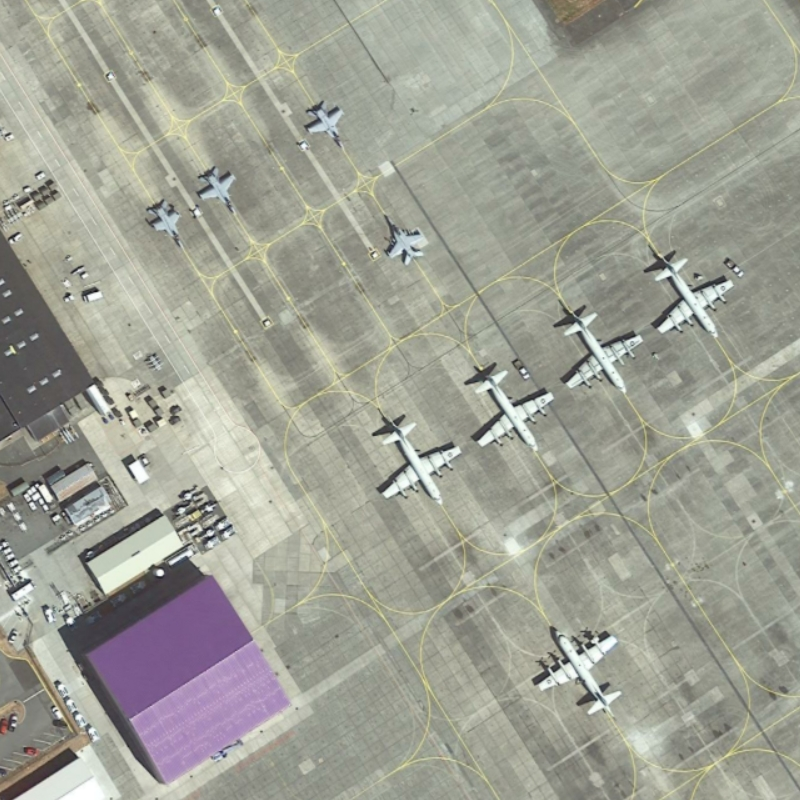A16: (371, 201, 432, 275), (194, 163, 254, 226), (141, 190, 194, 253), (296, 95, 350, 155)
A9: (525, 611, 630, 723), (553, 298, 649, 406), (365, 414, 469, 512), (461, 359, 558, 463), (646, 246, 740, 347)
